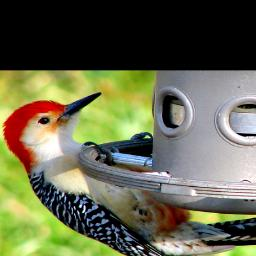Woodpecker: (3, 92, 256, 256)
